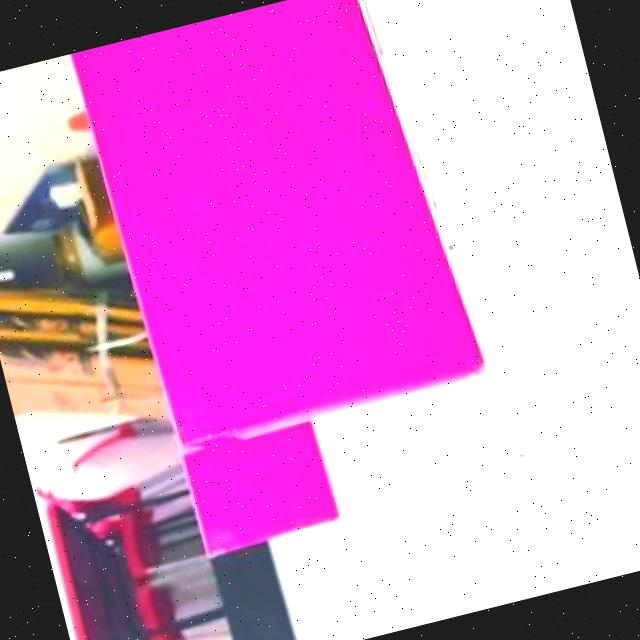xparking: (70, 0, 483, 454), (175, 422, 343, 561)
